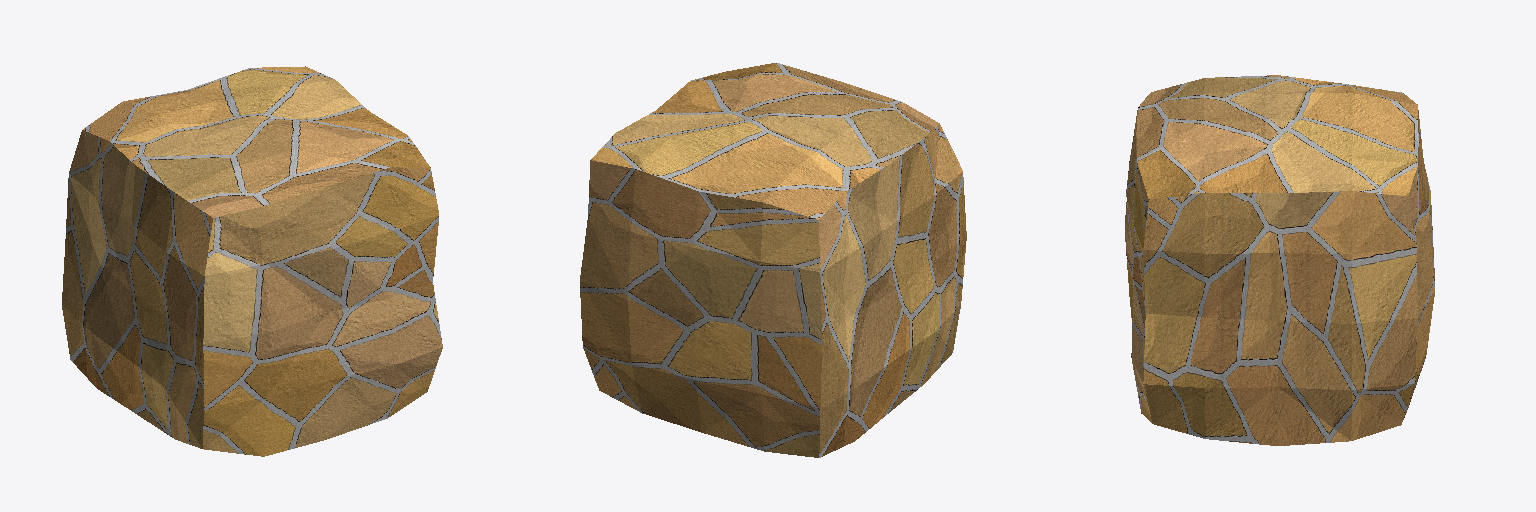
3 views of the same model, side by side, from view 1: azimuth 30°, elevation 25°; view 2: azimuth 150°, elevation 25°; view 3: azimuth 270°, elevation 25° (orthographic).
Visible parts, largest first — view 1: KillerFrostIceBlock; view 2: KillerFrostIceBlock; view 3: KillerFrostIceBlock.
Part boxes in pixels (left/top/right/bottom): KillerFrostIceBlock: left=62, top=66, right=442, bottom=456; KillerFrostIceBlock: left=580, top=63, right=966, bottom=457; KillerFrostIceBlock: left=1125, top=75, right=1434, bottom=445.
Size of the model in its own units: 0.583 by 0.5834 by 0.5998.
1 materials, 1 textured.